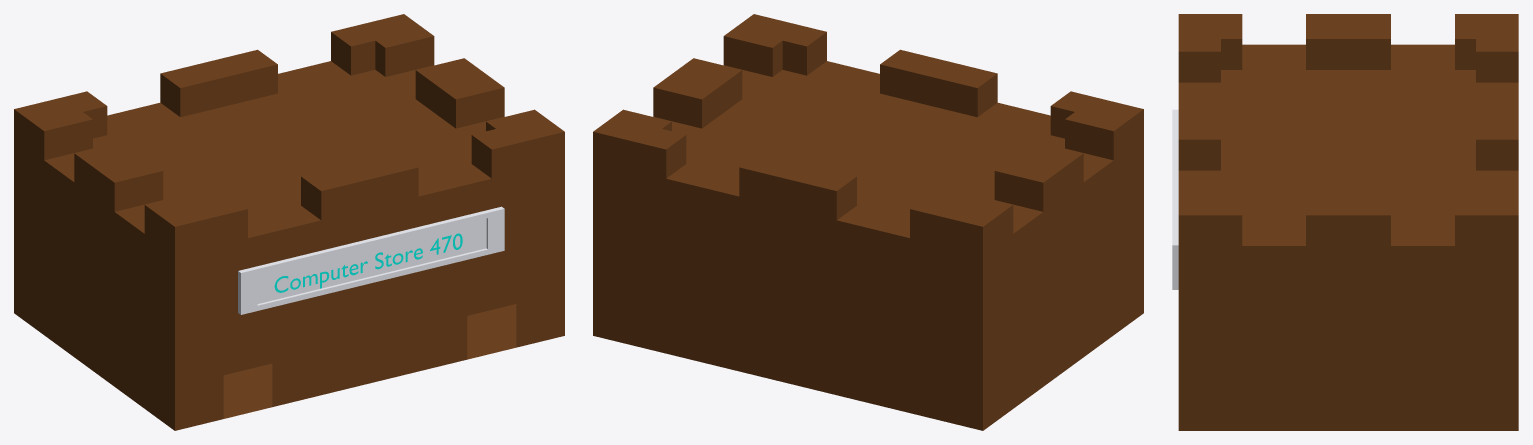
Rendered from Grocery_Store.obj.
3 renders of one model, left to right at view 1: azimuth 30°, elevation 25°; view 2: azimuth 150°, elevation 25°; view 3: azimuth 270°, elevation 25°, orthographic. The views are drawn at different scales.
Parts seen in each view (by area): view 1: Grocery_Store_Box, Store_Sign, Computer_Store_470; view 2: Grocery_Store_Box; view 3: Grocery_Store_Box, Store_Sign.
Part boxes in pixels (bbox=[...]): Grocery_Store_Box: bbox=[14, 14, 564, 430]; Store_Sign: bbox=[238, 206, 504, 314]; Computer_Store_470: bbox=[274, 233, 462, 292]; Grocery_Store_Box: bbox=[593, 14, 1143, 430]; Grocery_Store_Box: bbox=[1178, 14, 1518, 430]; Store_Sign: bbox=[1172, 109, 1178, 289].
Bounding box in the file's own units: 14 × 7 × 10.18.
